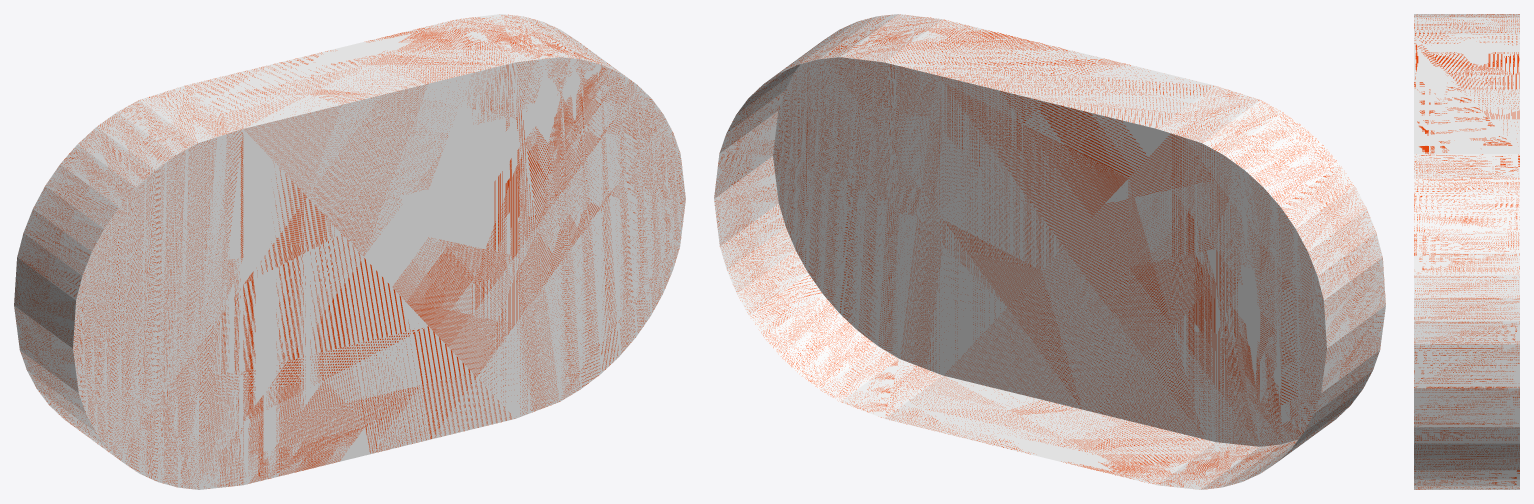
File: original-22.obj
3 views of the same model, side by side, from view 1: azimuth 30°, elevation 25°; view 2: azimuth 150°, elevation 25°; view 3: azimuth 270°, elevation 25° (orthographic). The views are drawn at different scales.
Visible parts, largest first — view 1: mesh9/mesh9-geometry/material_0/component_9#mesh9-geometry; view 2: mesh9/mesh9-geometry/material_0/component_9#mesh9-geometry; view 3: mesh9/mesh9-geometry/material_0/component_9#mesh9-geometry.
Part boxes in pixels (x1,y1,x2,y2): mesh9/mesh9-geometry/material_0/component_9#mesh9-geometry: [14, 14, 685, 489]; mesh9/mesh9-geometry/material_0/component_9#mesh9-geometry: [714, 14, 1385, 489]; mesh9/mesh9-geometry/material_0/component_9#mesh9-geometry: [1414, 14, 1519, 489].
Size of the model in its own units: 0.091 by 0.0506 by 0.0152.
